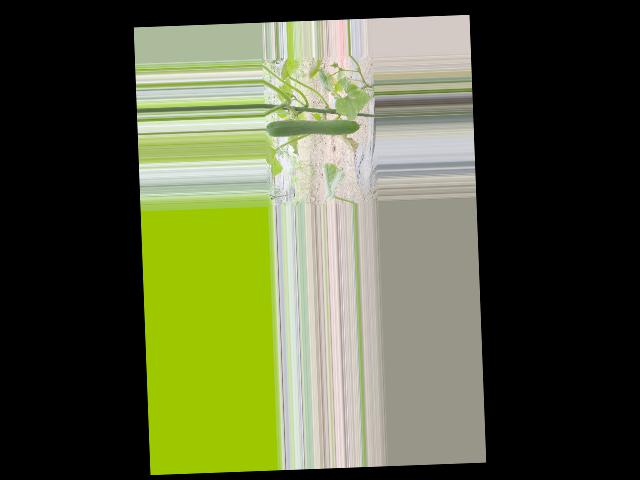cucumber: (266, 117, 362, 138)
